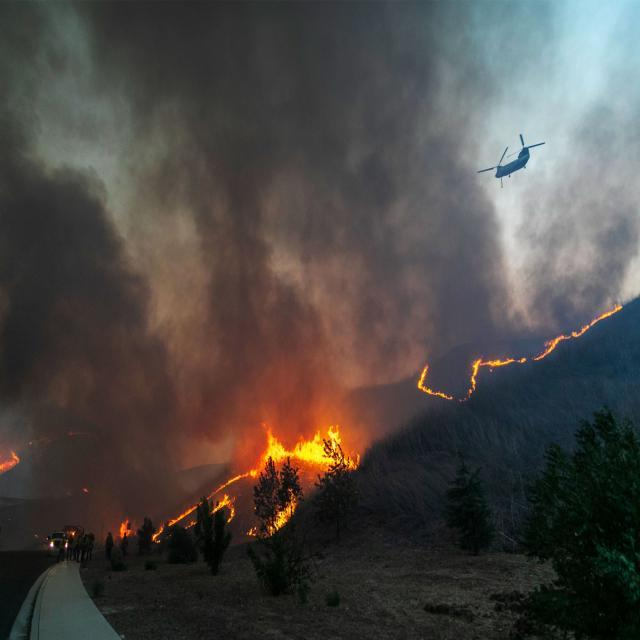Fire: (144, 421, 362, 548), (414, 299, 626, 406), (240, 490, 302, 541), (0, 451, 21, 481), (114, 515, 134, 545)
Smoke: (0, 2, 567, 511), (517, 58, 640, 330)
